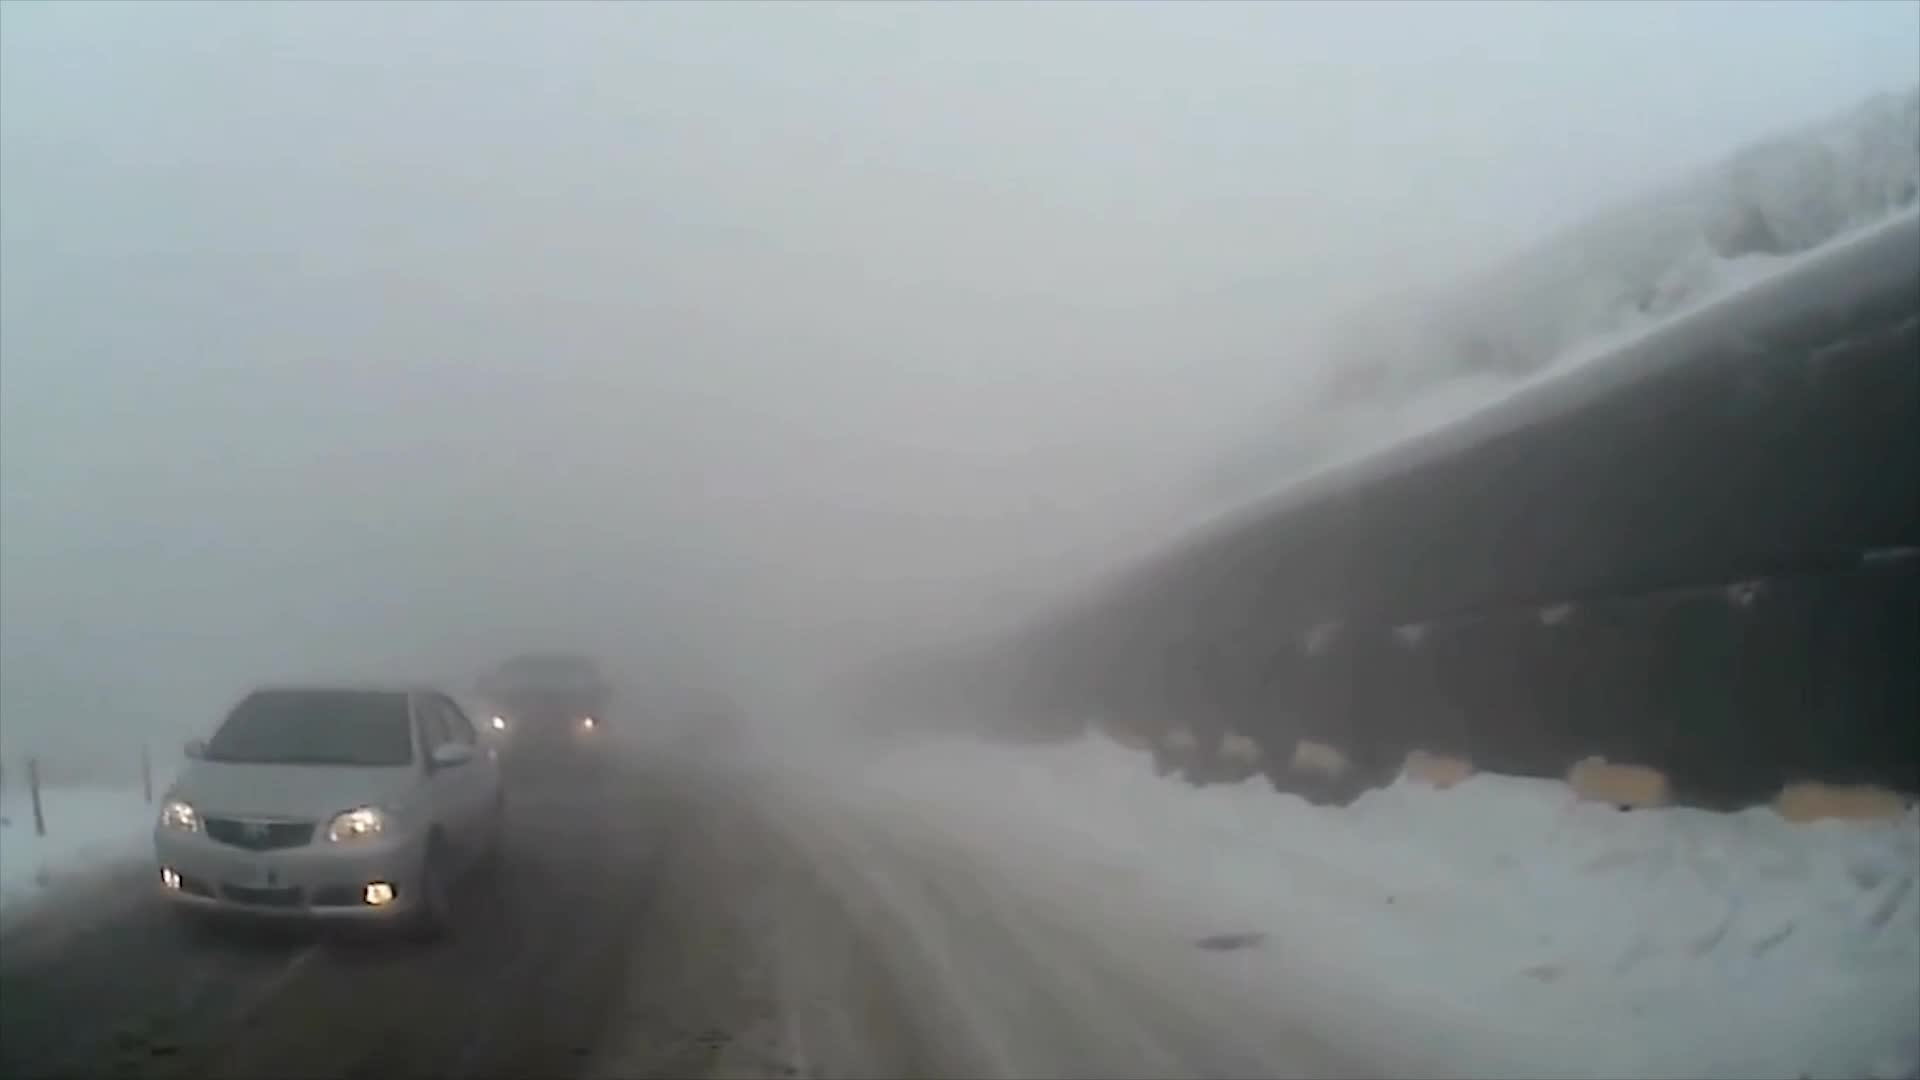vehicle: (142, 683, 512, 951), (476, 650, 615, 775)
